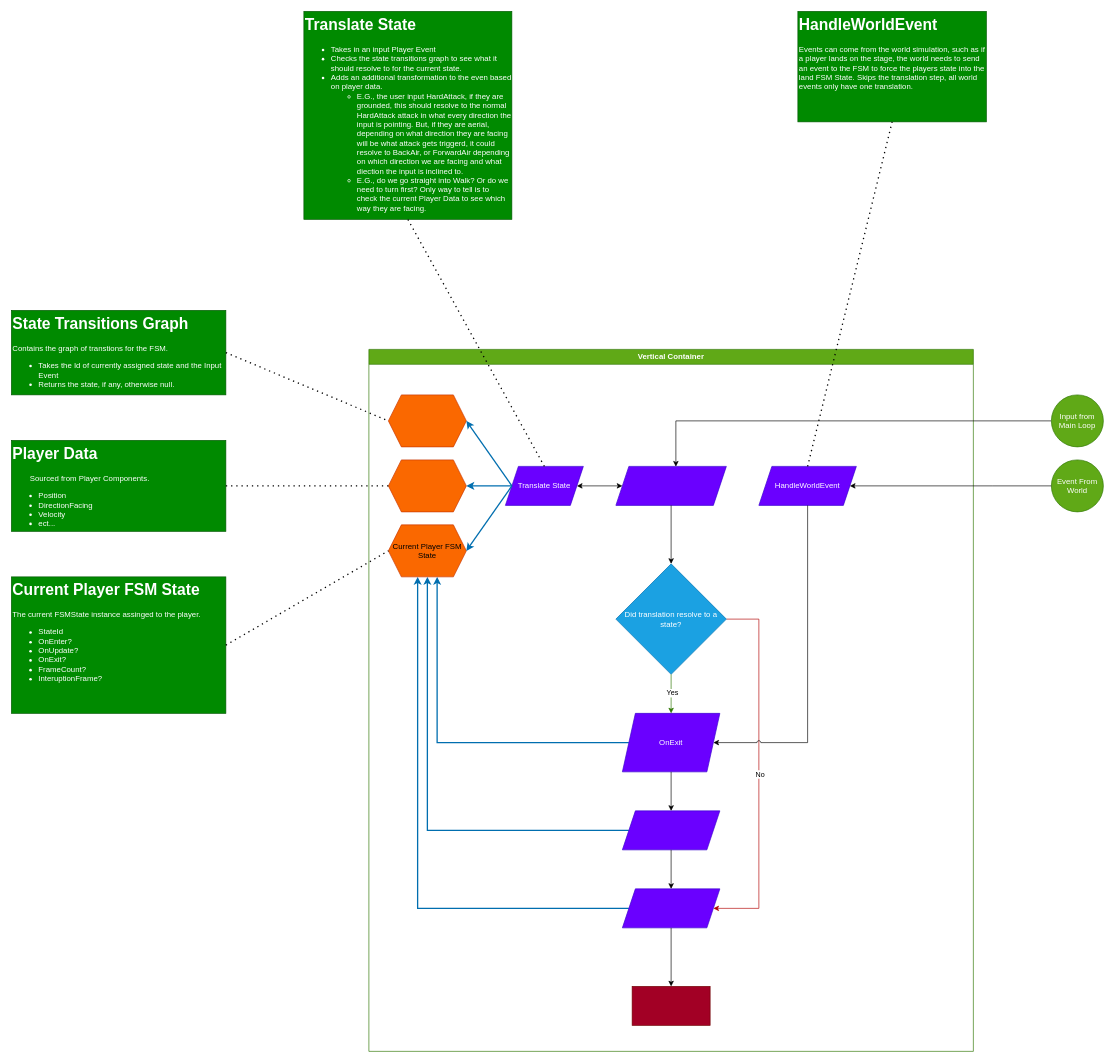
This 1115x1063 diagram has some shape labels left out. The shapes that lost their labels are listed below. From the top down, each one's box as (x1, y1, x2, y2) in pixels, then its label:
(388, 394, 466, 447): State Transitions Graph
(388, 459, 466, 512): Player Data
(615, 466, 726, 505): HandlePlayerEvent
(622, 810, 720, 850): OnEnter
(622, 888, 720, 928): OnUpdate
(631, 986, 710, 1025): END
